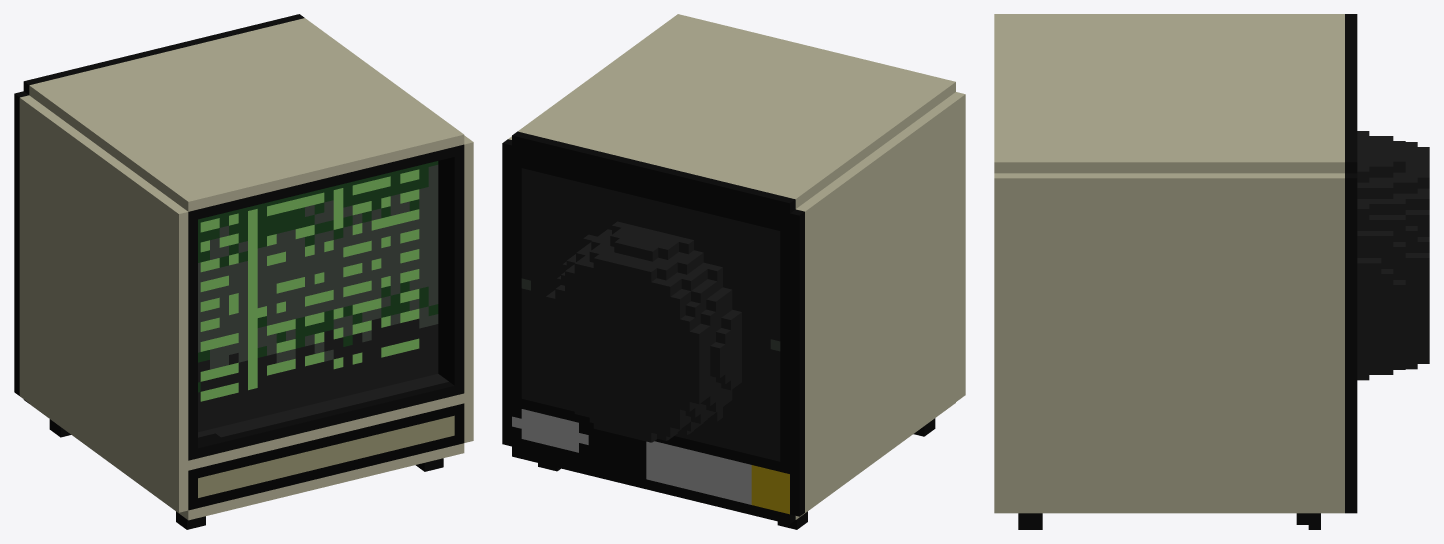
Rendered from 1980s SpiderScreen.fbx.
3 views of the same model, side by side, from view 1: azimuth 30°, elevation 25°; view 2: azimuth 150°, elevation 25°; view 3: azimuth 270°, elevation 25° (orthographic). The views are drawn at different scales.
Parts seen in each view (by area): view 1: SpiderScreen; view 2: SpiderScreen; view 3: SpiderScreen.
Part boxes in pixels (box(x1,y1,x2,y2)): SpiderScreen: box(14, 14, 473, 529); SpiderScreen: box(502, 14, 965, 529); SpiderScreen: box(994, 14, 1429, 529).
Bounding box in the file's own units: 3100 × 3400 × 3600.
